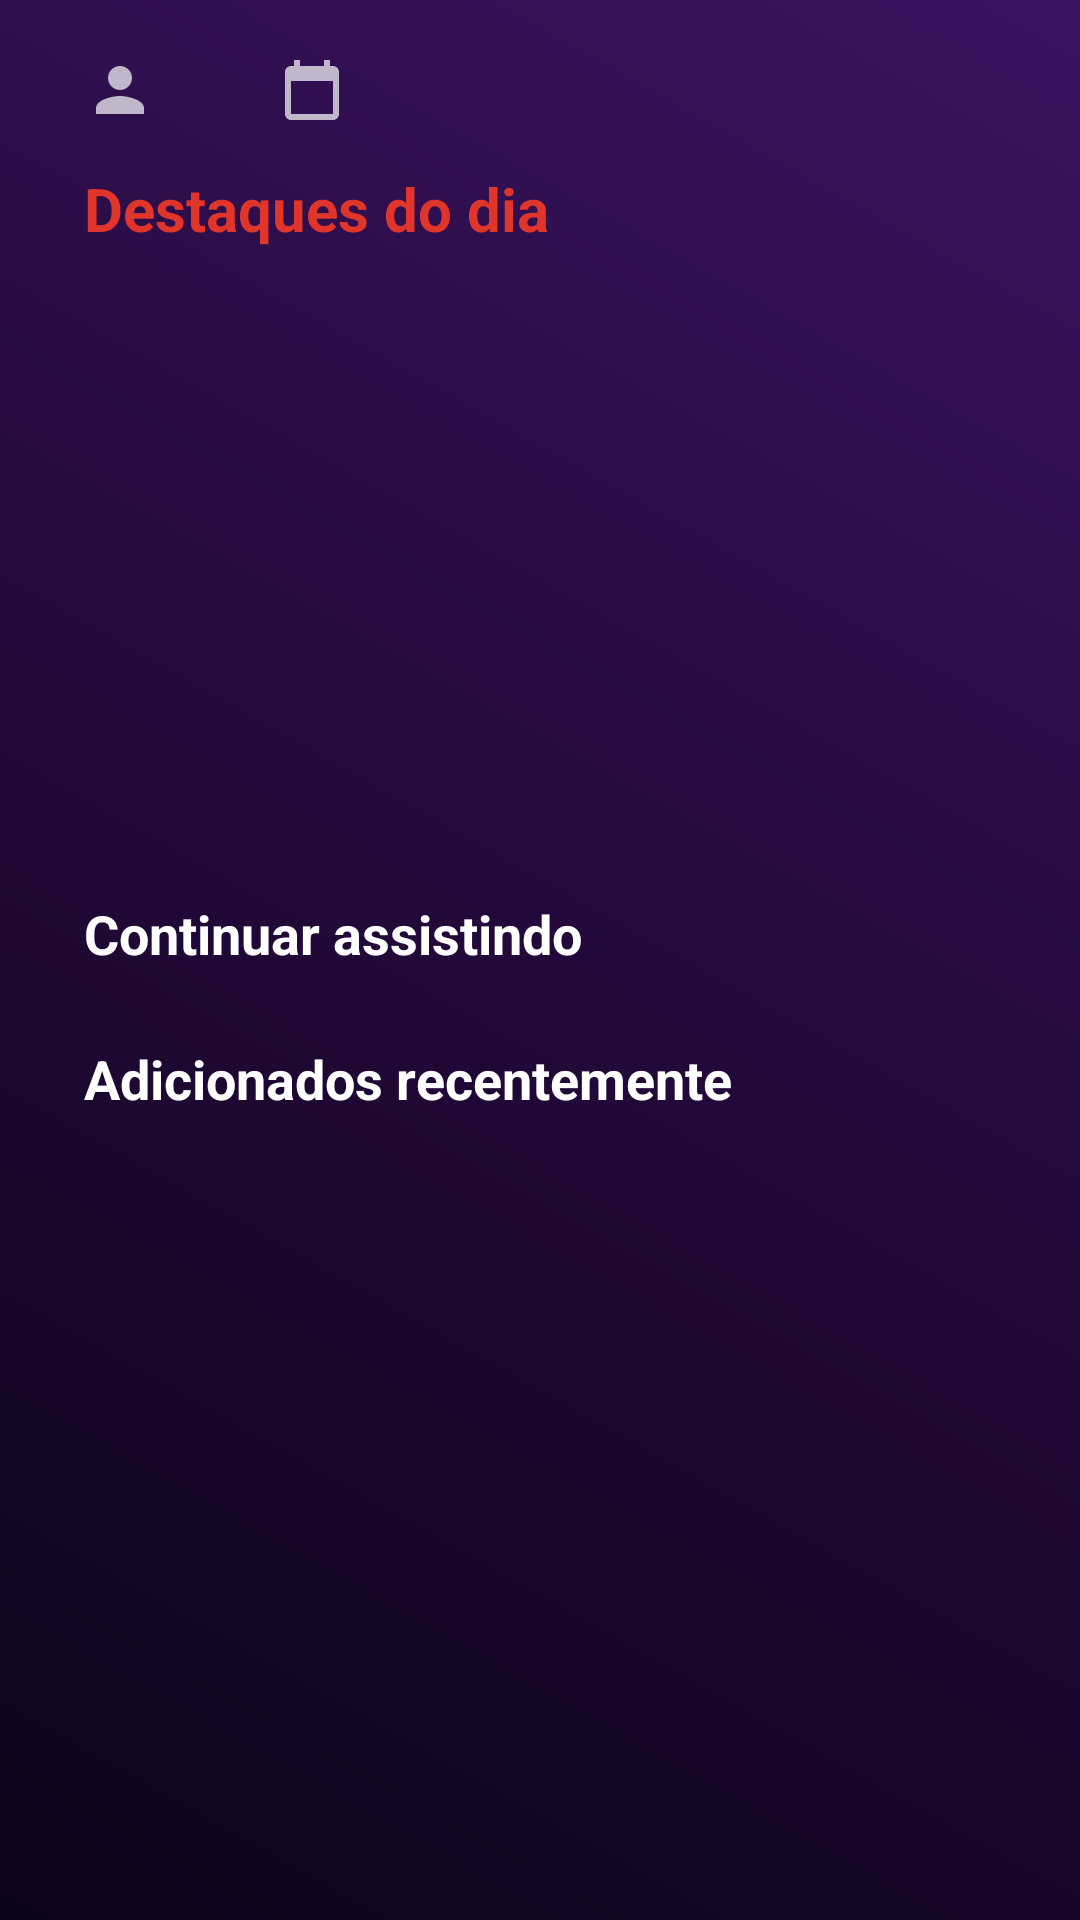

Named icons in this screenshot (1080*1920) and their centers, [x,y]:
calendar: [312,90]
user: [120,90]
